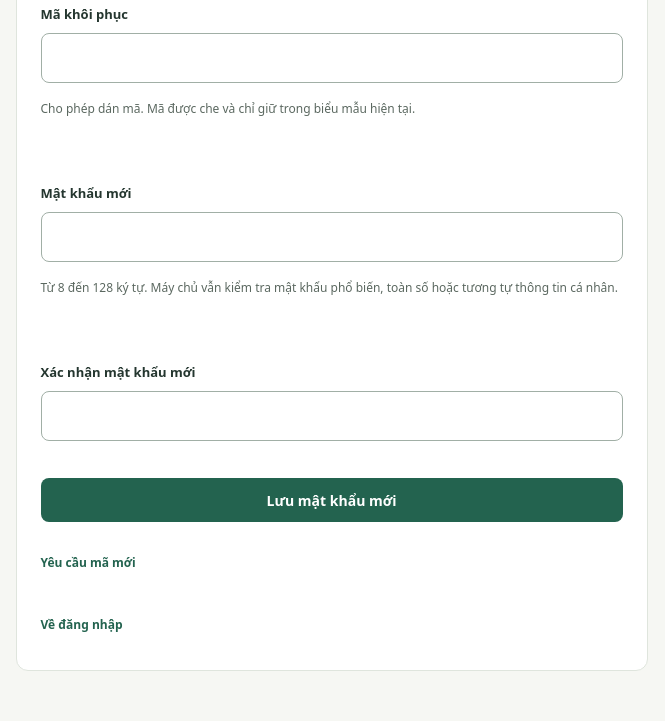
Test: password recovery frontend › validates confirmation and masks the pasted credential without URL or storage use
(page scrolled)
Click the button "Lưu mật khẩu mới" at (332, 500), box top-left (40, 478), bottom-right (622, 522)
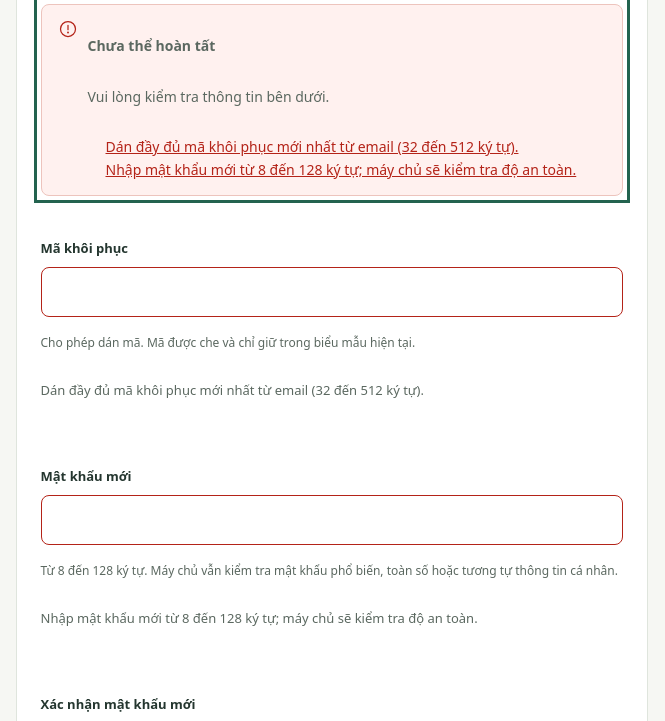
Type "synthetic-manually-pasted-email-credential-only" into the password field labelled "Mã khôi phục" at (332, 292), box top-left (40, 267), bottom-right (622, 317)
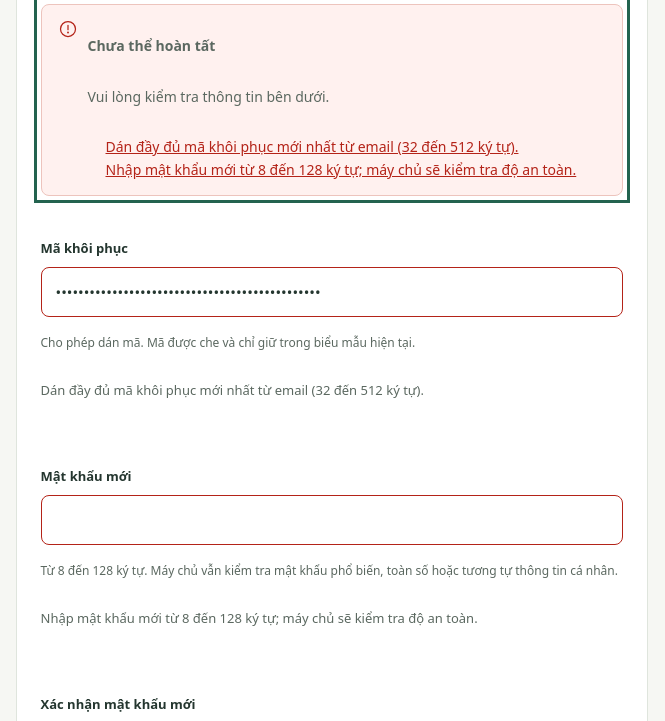
Type "Synthetic-new-password" into the password field labelled "Mật khẩu mới" at (332, 520), box top-left (40, 494), bottom-right (622, 544)
(page scrolled)
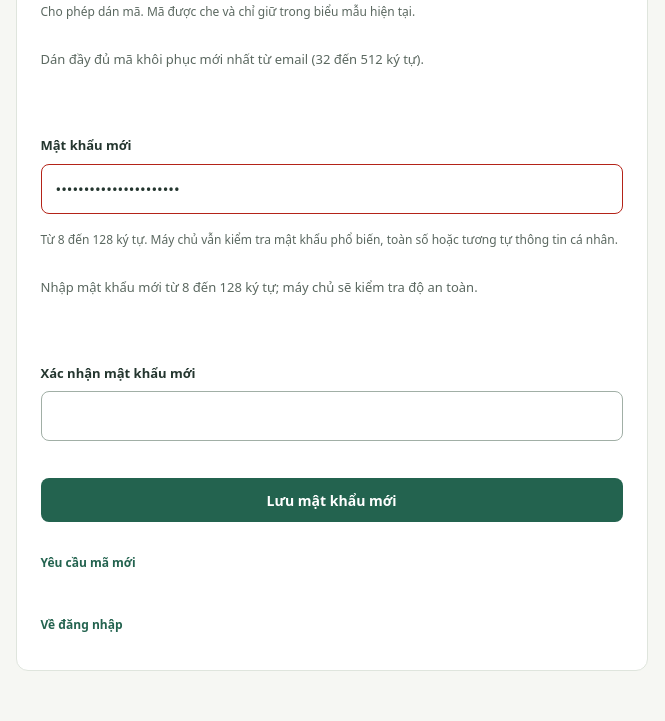
Type "Synthetic-new-password" into the password field labelled "Xác nhận mật khẩu mới" at (332, 416), box top-left (40, 391), bottom-right (622, 441)
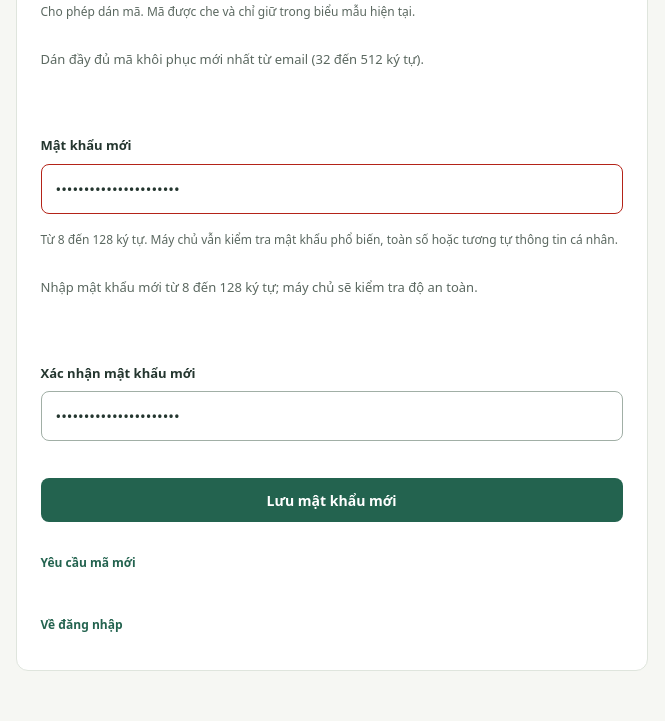
Click the button "Lưu mật khẩu mới" at (332, 500), box top-left (40, 478), bottom-right (622, 522)
(page scrolled)
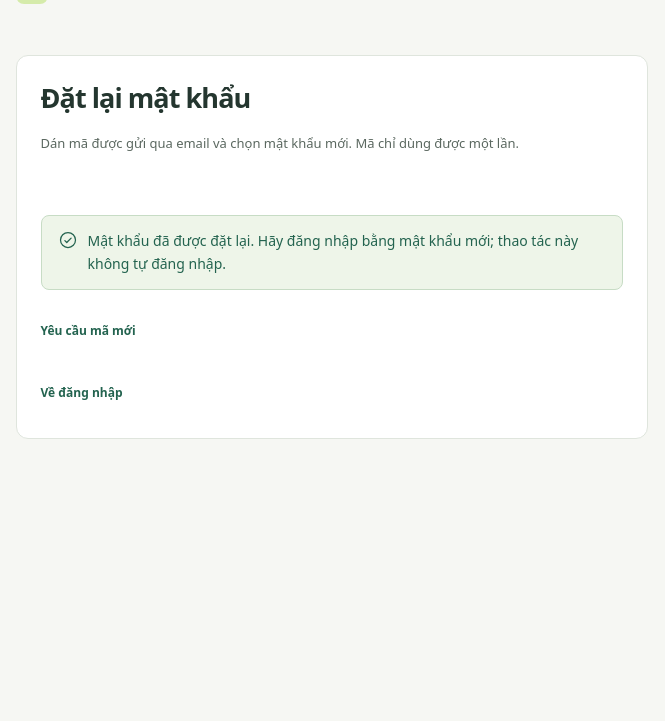
Expected: the message shows "không tự đăng nhập", top-left (88, 231), bottom-right (578, 273)
